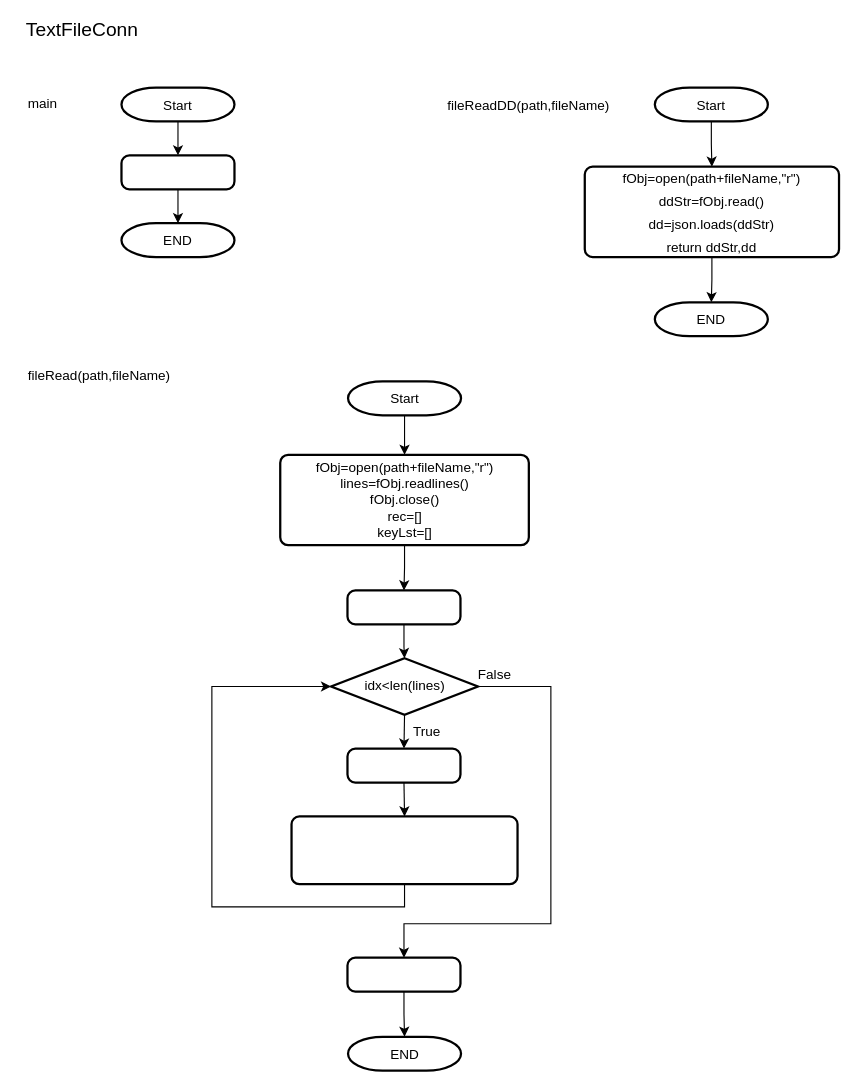
This 859x1090 diagram has some shape labels left out. The centre of each missing label's shape, as x and y in pixels:
idx=0: (x=403, y=607)
import jason: (x=177, y=172)
line=lines(idx): (x=403, y=765)
return keyLst,rec: (x=403, y=974)
trec=line.strip("\n").split("|") keyLst.append(trec[0]) rec.append(trec): (x=404, y=850)
